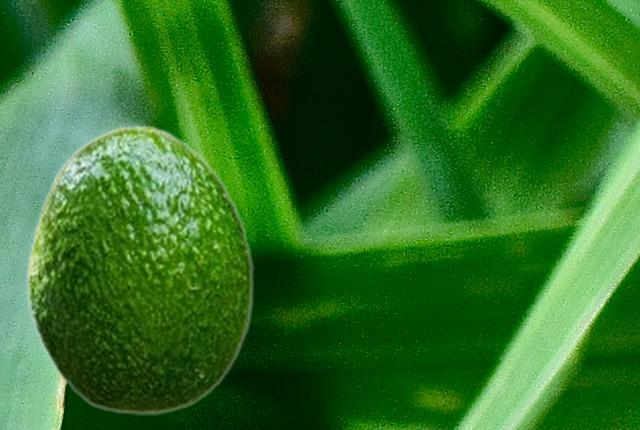avocado: (26, 124, 254, 414)
